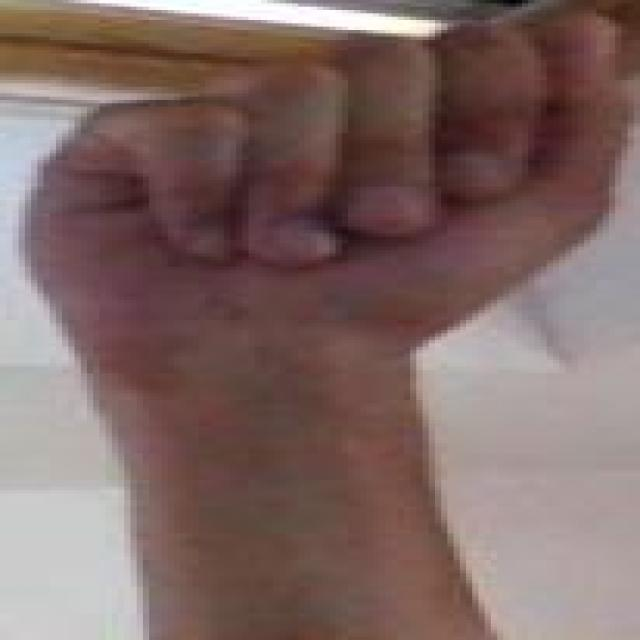A: (3, 3, 640, 350)
